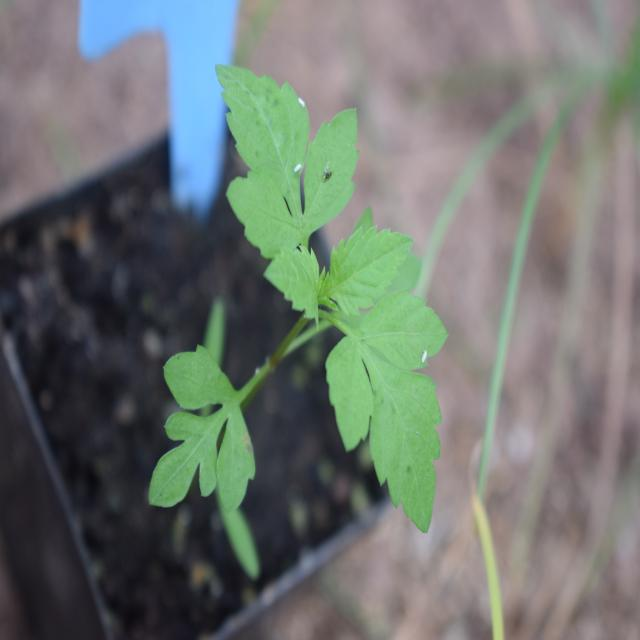Bidens pilosa: (158, 83, 448, 548)
